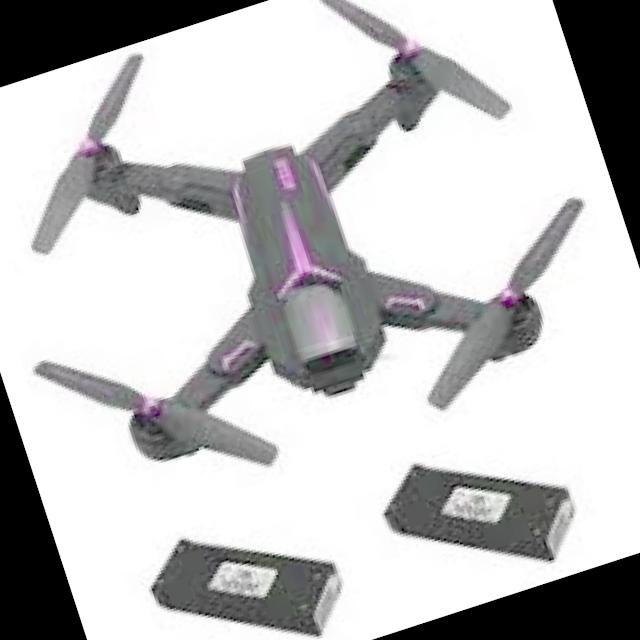drone: (0, 0, 637, 546)
